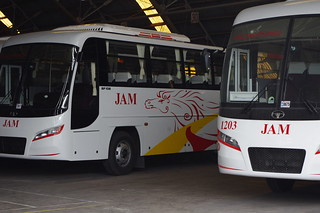bus: (1, 22, 217, 174), (217, 1, 320, 192)
